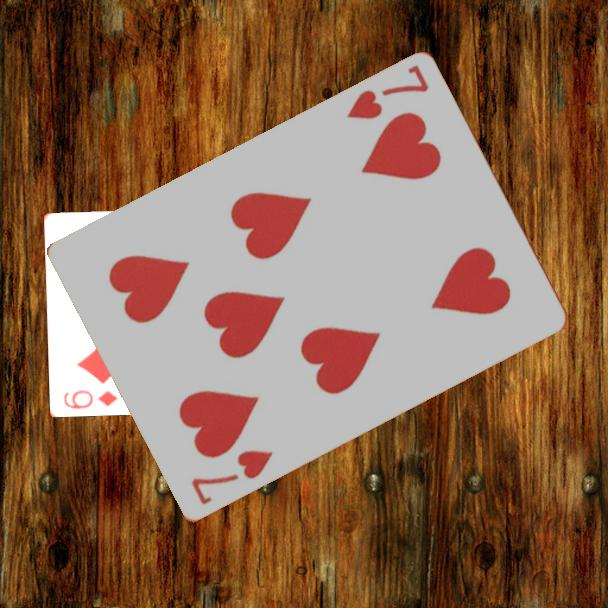d06: (61, 386, 121, 411)
h07: (187, 447, 276, 509), (342, 62, 432, 123)
